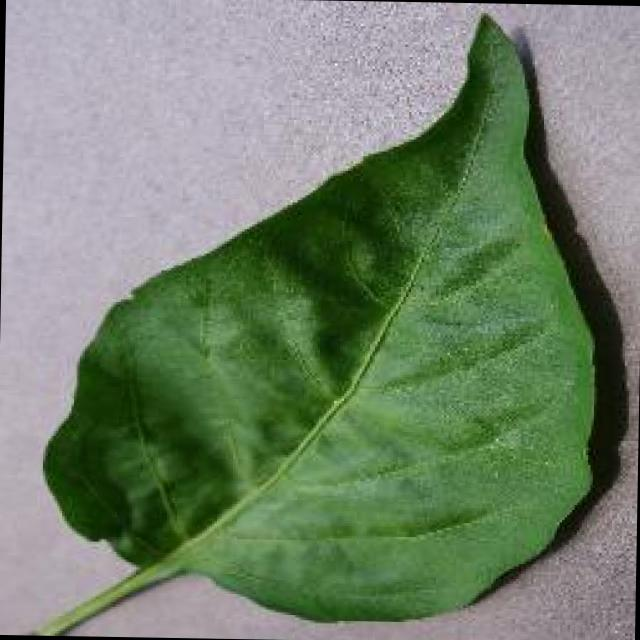Chilli_Healthy: (9, 2, 622, 640)
